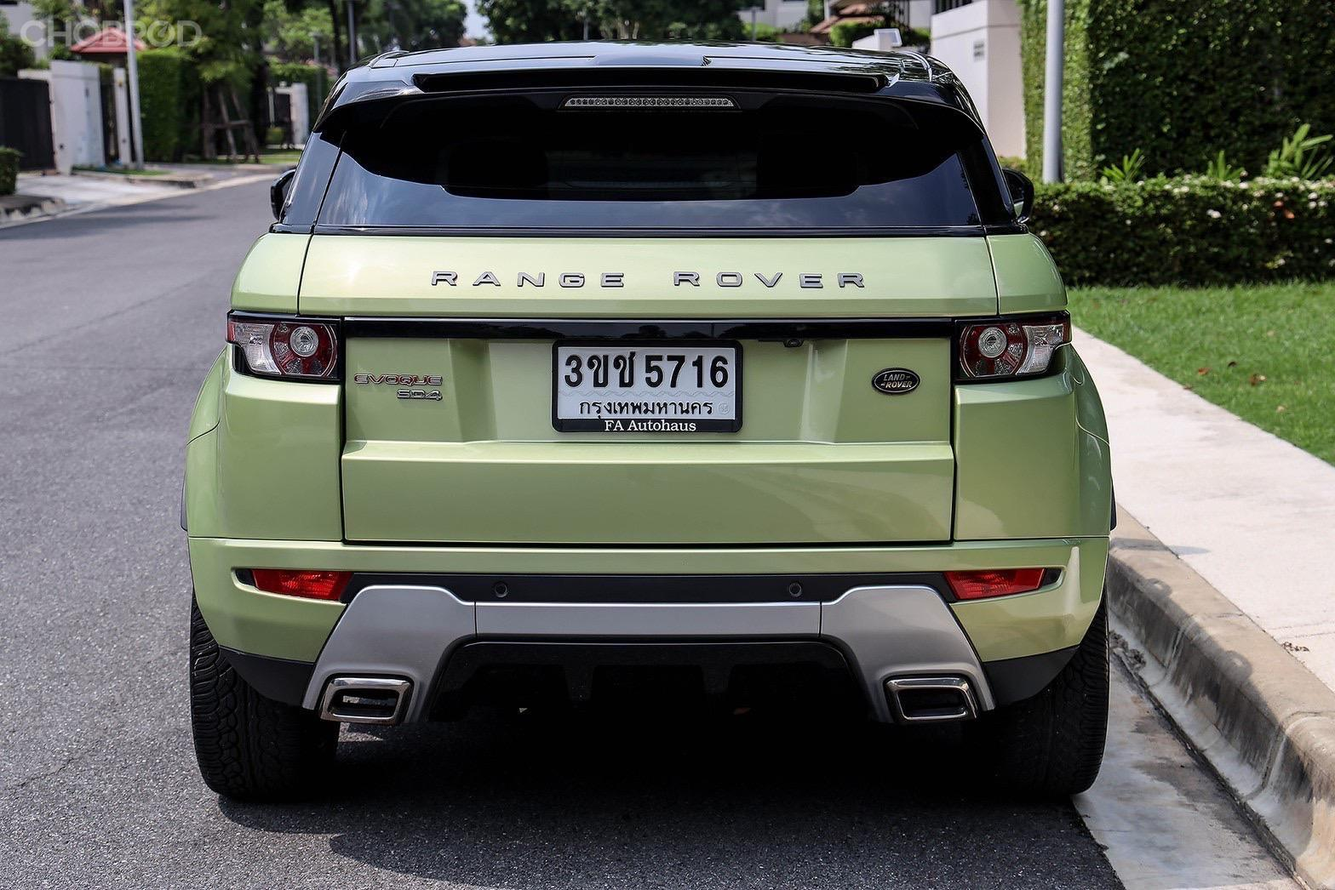license-plate: (548, 335, 743, 436)
